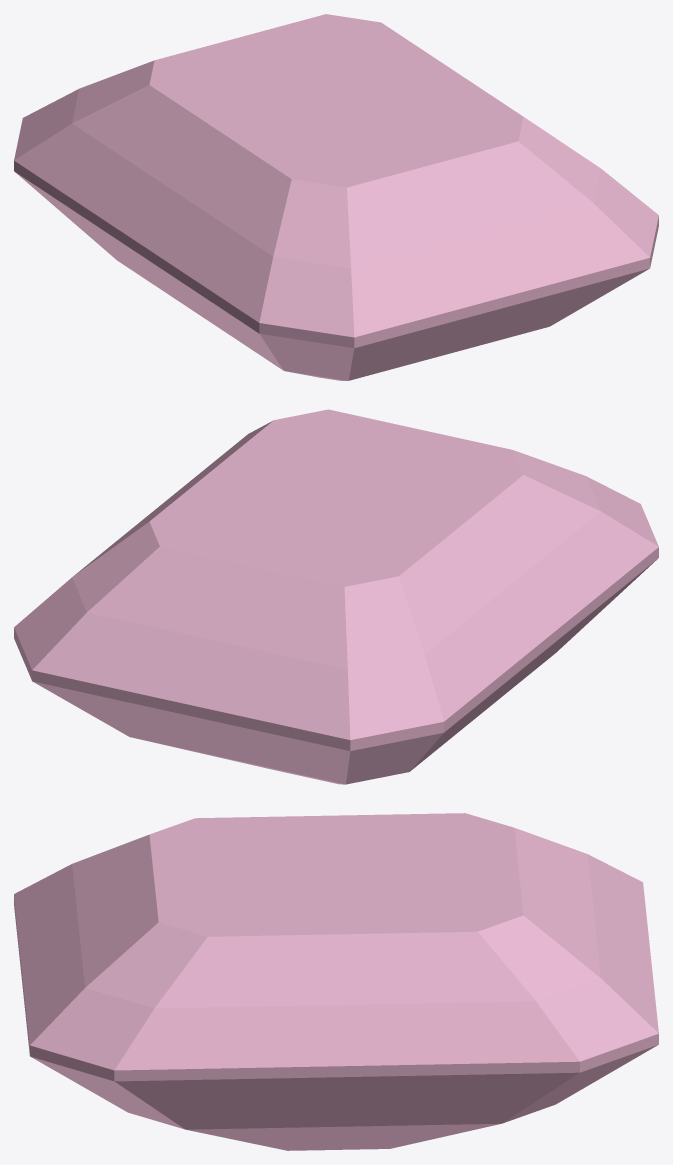
File: stone-kunzite.glb
3 renders of one model, top to bottom at view 1: azimuth 30°, elevation 25°; view 2: azimuth 150°, elevation 25°; view 3: azimuth 270°, elevation 25°, orthographic. The views are drawn at different scales.
Parts seen in each view (by area): view 1: Gemstone Kunzite; view 2: Gemstone Kunzite; view 3: Gemstone Kunzite.
Part boxes in pixels (left/top/right/bottom): Gemstone Kunzite: left=14, top=14, right=658, bottom=380; Gemstone Kunzite: left=14, top=409, right=658, bottom=784; Gemstone Kunzite: left=14, top=813, right=658, bottom=1150.
Bounding box in the file's own units: 2.08 × 1.15 × 2.66.
